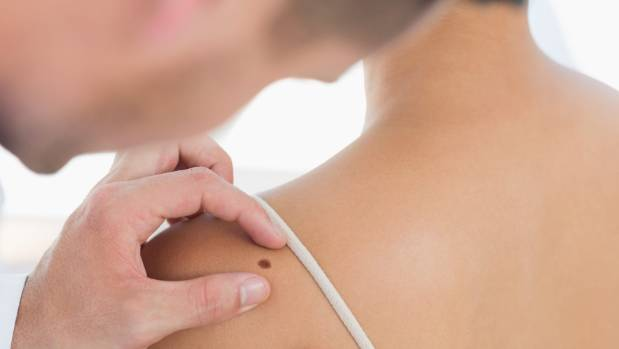mole: (249, 250, 277, 273)
